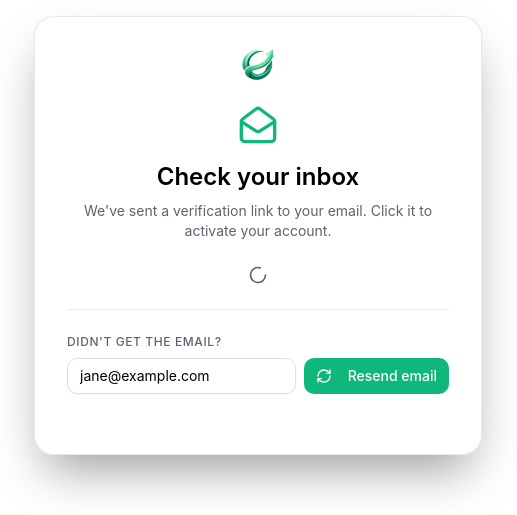
Scenario: VerifyEmailPage — resend action › maps rate-limit errors to a plain retry message (status-safe)
The image size is (517, 515).
Expected: the field labelled "Didn't get the email?" holds "jane@example.com", [67,358,296,394]
Click the button "Resend email": x=376, y=376 [304,358,449,394]
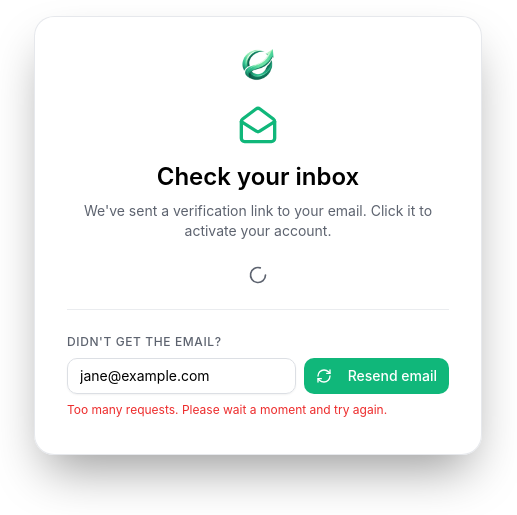
Now the text "Too many requests. Please wait a moment and try again." is shown, box [67,402,387,416]
